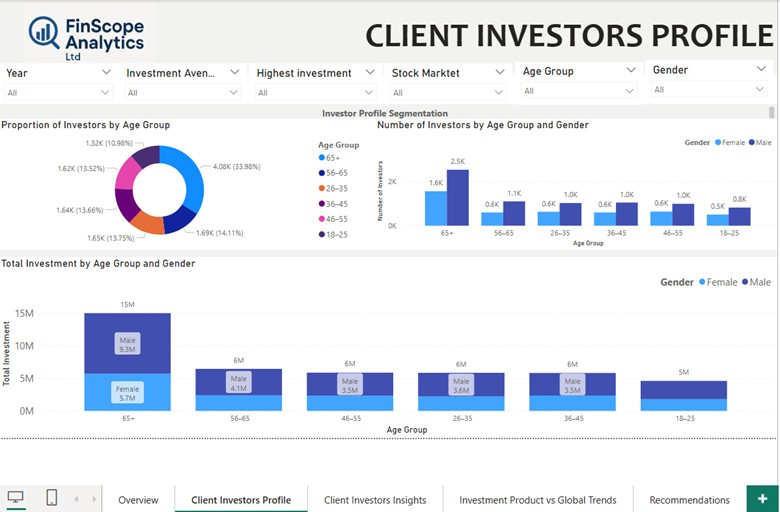

Layout of this report page (visuals, bound fields, positions):
{"tool":"powerbi","page":{"name":"Client Investors Profile","canvas":[1280,720],"ordinal":1},"visuals":[{"type":"textbox","box":[0,0,1280,122.9],"z":0},{"type":"image","box":[0,0,301.5,110.2],"z":1000},{"type":"slicer","fields":{"Values":["finance_project finance_trends.Year"]},"box":[0,104.6,198.6,87.1],"z":2000},{"type":"slicer","fields":{"Values":["finance_project finance_trends.Highest_investment"]},"box":[411.4,104.6,220,77.1],"z":3000},{"type":"slicer","fields":{"Values":["finance_project finance_trends.Investment_Avenues"]},"box":[197.1,104.6,211.4,87.1],"z":4000},{"type":"slicer","fields":{"Values":["finance_project finance_trends.Stock_Marktet"]},"box":[632.9,104.6,211.4,77.1],"z":5000},{"type":"textbox","box":[0,405.6,1279.6,32.1],"z":6000},{"type":"textbox","box":[0,171.4,1279.6,29.1],"z":7000},{"type":"slicer","fields":{"Values":["finance_project finance_trends.Age Group"]},"box":[848,101,211.2,70.4],"z":8000},{"type":"clusteredColumnChart","fields":{"Category":["finance_project finance_trends.Age Group"],"Y":["CountNonNull(finance_project finance_trends.Age Group)"],"Series":["finance_project finance_trends.gender"]},"box":[617.7,195.5,662.7,215.7],"z":9000},{"type":"slicer","fields":{"Values":["finance_project finance_trends.gender"]},"box":[1062.3,99.5,211.2,71.9],"z":10000},{"type":"donutChart","fields":{"Category":["finance_project finance_trends.Age Group"],"Y":["CountNonNull(finance_project finance_trends.Age Group)"]},"box":[0,195.5,617.7,215.7],"z":11000},{"type":"lineStackedColumnComboChart","fields":{"Y":["Sum(finance_project customer_investment.amount_investment)"],"Category":["finance_project finance_trends.Age Group"],"Series":["finance_project finance_trends.gender"]},"box":[0,422.5,1279.6,296.9],"z":12000}]}

Visuals, with their boxes on the page's 1280x720 design canvas (x1, y1, x2, y2). These are canvas units, not pixel positions in the 780x512 screenshot, which may show the page scaled, cropped or inside an application window:
textbox: [0, 0, 1280, 123]
image: [0, 0, 302, 110]
slicer - finance_project finance_trends.Year: [0, 105, 199, 192]
slicer - finance_project finance_trends.Highest_investment: [411, 105, 631, 182]
slicer - finance_project finance_trends.Investment_Avenues: [197, 105, 408, 192]
slicer - finance_project finance_trends.Stock_Marktet: [633, 105, 844, 182]
textbox: [0, 406, 1280, 438]
textbox: [0, 171, 1280, 200]
slicer - finance_project finance_trends.Age Group: [848, 101, 1059, 171]
clusteredColumnChart - finance_project finance_trends.Age Group x CountNonNull(finance_project finance_trends.Age Group): [618, 196, 1280, 411]
slicer - finance_project finance_trends.gender: [1062, 100, 1274, 171]
donutChart - finance_project finance_trends.Age Group x CountNonNull(finance_project finance_trends.Age Group): [0, 196, 618, 411]
lineStackedColumnComboChart - Sum(finance_project customer_investment.amount_investment) x finance_project finance_trends.Age Group: [0, 422, 1280, 719]
